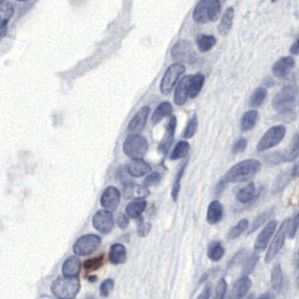Lymphocyte: (86, 256, 105, 273)
